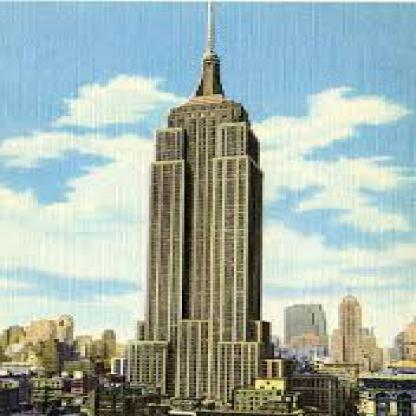Empire-State-building: (126, 0, 283, 374)
